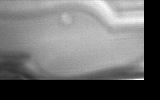cell: (57, 10, 75, 29)
